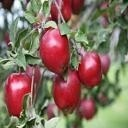apple: (4, 71, 34, 118)
